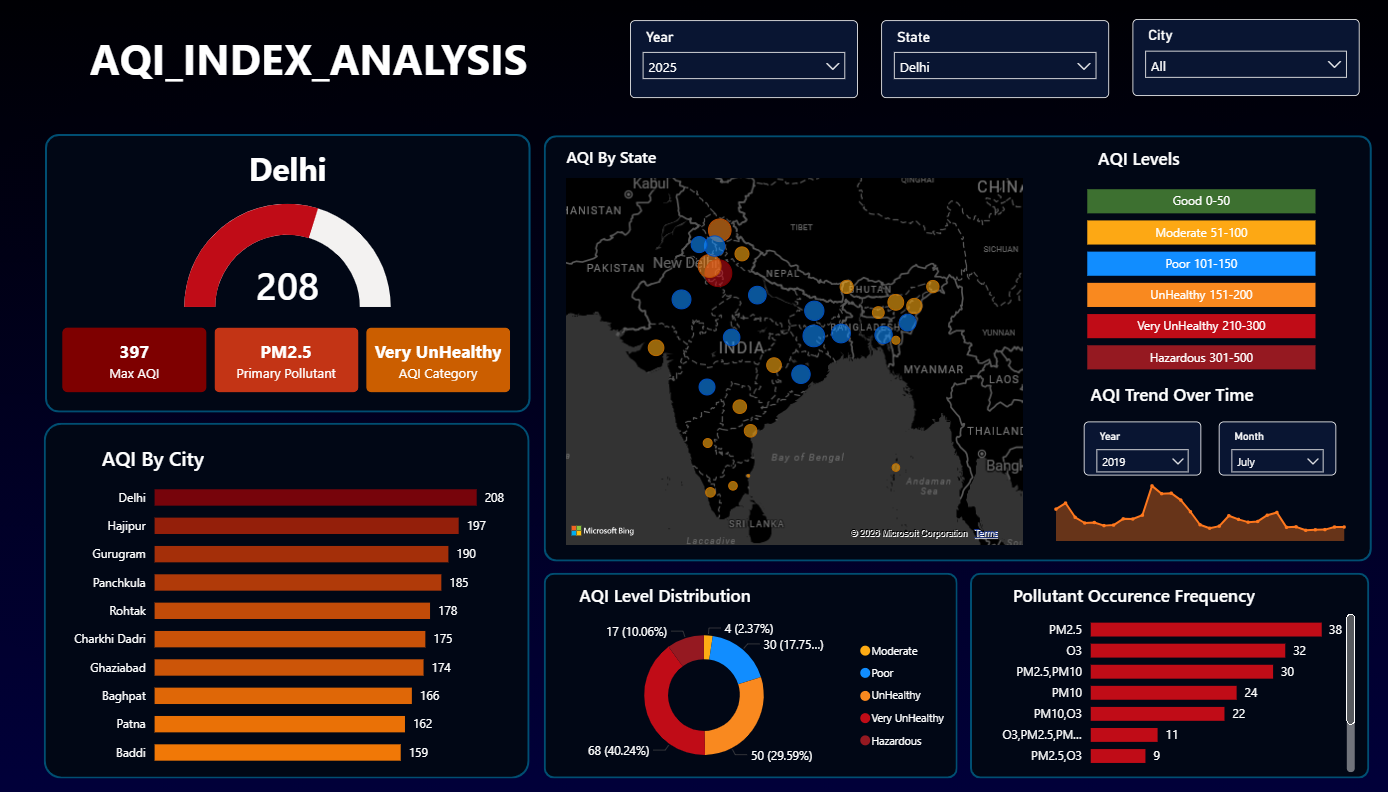

This screenshot's page, from the dashboard's own definition file:
{"tool":"powerbi","page":{"name":"AQI_INDEX_ANALYSIS","canvas":[1400,800],"ordinal":0},"visuals":[{"type":"shape","box":[45,136.6,489.3,280.7],"z":0},{"type":"textbox","box":[85.5,25.5,480.3,72],"z":1000},{"type":"gauge","fields":{"Y":["day_wise_aqi_data.Avg AQI"]},"box":[139.6,201.1,300.2,114.1],"z":2000},{"type":"slicer","fields":{"Values":["Calendar Table.Year"]},"box":[634.7,21.4,229.6,78],"z":3000},{"type":"slicer","fields":{"Values":["day_wise_aqi_data.state"]},"box":[888.4,21.4,229.6,78],"z":4000},{"type":"slicer","fields":{"Values":["day_wise_aqi_data.area"]},"box":[1141.1,20.5,229,77.7],"z":5000},{"type":"cardVisual","fields":{"Data":["Max(day_wise_aqi_data.aqi_value)","day_wise_aqi_data.Primary Pollutant","day_wise_aqi_data.AQI Category API"]},"box":[58.5,325.7,462.3,75],"z":6000},{"type":"cardVisual","fields":{"Data":["day_wise_aqi_data.KPI Title"]},"box":[45,148.6,489.3,42],"z":7000},{"type":"shape","box":[548.1,137.7,834.4,429.5],"z":8000},{"type":"map","fields":{"Category":["day_wise_aqi_data.state"],"Size":["day_wise_aqi_data.Avg AQI"]},"box":[565.8,174.5,470.4,380.4],"z":9000},{"type":"cardVisual","fields":{"Data":["day_wise_aqi_data.State Map Title"]},"box":[565.8,136.3,186.8,42.3],"z":10000},{"type":"barChart","fields":{"Category":["day_wise_aqi_data.AQI Category"],"Y":["day_wise_aqi_data.Label"]},"box":[1090.7,178.6,239.9,200.4],"z":11000},{"type":"cardVisual","fields":{"Data":["day_wise_aqi_data.AQI Level Title"]},"box":[1089.3,137.7,186.8,42.3],"z":12000},{"type":"areaChart","fields":{"Category":["Calendar Table.Date.Variation.Date Hierarchy.Day"],"Y":["day_wise_aqi_data.Avg AQI"]},"box":[1049.8,462.2,320.4,90],"z":13000},{"type":"slicer","fields":{"Values":["Calendar Table.Date.Variation.Date Hierarchy.Year"]},"box":[1092,425.4,118.6,54.5],"z":14000},{"type":"slicer","fields":{"Values":["Calendar Table.Date.Variation.Date Hierarchy.Month"]},"box":[1228.4,425.4,118.6,54.5],"z":15000},{"type":"cardVisual","fields":{"Data":["day_wise_aqi_data.Title for Monthly Chart"]},"box":[1082.5,374.9,230.4,42.3],"z":16000},{"type":"shape","box":[43.6,426.7,489.4,358.6],"z":17000},{"type":"barChart","fields":{"Category":["day_wise_aqi_data.area"],"Y":["day_wise_aqi_data.Avg AQI"]},"box":[62.7,470.4,452.6,314.9],"z":18000},{"type":"cardVisual","fields":{"Data":["day_wise_aqi_data.Title for City"]},"box":[85.5,439.8,187.6,43.5],"z":19000},{"type":"shape","box":[548.1,578.1,417.2,207.2],"z":20000},{"type":"donutChart","fields":{"Category":["day_wise_aqi_data.AQI Category"],"Y":["day_wise_aqi_data.COUNT ROWS"]},"box":[548.1,619,417.2,166.3],"z":21000},{"type":"cardVisual","fields":{"Data":["day_wise_aqi_data.Donut Title"]},"box":[567.1,578.1,263.1,42.3],"z":22000},{"type":"shape","box":[977.5,578.1,402.2,207.2],"z":23000},{"type":"barChart","fields":{"Category":["day_wise_aqi_data.prominent_pollutants"],"Y":["day_wise_aqi_data.COUNT ROWS"]},"box":[991.1,606.7,379,177.2],"z":24000},{"type":"cardVisual","fields":{"Data":["day_wise_aqi_data.Pollutant Title"]},"box":[1003.4,578.1,309.5,42.3],"z":25000}]}

Visuals, with their boxes in screenshot pixels (x1, y1, x2, y2), scaled from the page's 1400x800 canvas onto the 1388x792 screenshot:
shape: bbox=[45, 135, 530, 413]
textbox: bbox=[85, 25, 561, 97]
gauge - day_wise_aqi_data.Avg AQI: bbox=[138, 199, 436, 312]
slicer - Calendar Table.Year: bbox=[629, 21, 857, 98]
slicer - day_wise_aqi_data.state: bbox=[881, 21, 1108, 98]
slicer - day_wise_aqi_data.area: bbox=[1131, 20, 1358, 97]
cardVisual - Max(day_wise_aqi_data.aqi_value) x day_wise_aqi_data.Primary Pollutant: bbox=[58, 322, 516, 397]
cardVisual - day_wise_aqi_data.KPI Title: bbox=[45, 147, 530, 189]
shape: bbox=[543, 136, 1371, 562]
map - day_wise_aqi_data.state x day_wise_aqi_data.Avg AQI: bbox=[561, 173, 1027, 549]
cardVisual - day_wise_aqi_data.State Map Title: bbox=[561, 135, 746, 177]
barChart - day_wise_aqi_data.AQI Category x day_wise_aqi_data.Label: bbox=[1081, 177, 1319, 375]
cardVisual - day_wise_aqi_data.AQI Level Title: bbox=[1080, 136, 1265, 178]
areaChart - Calendar Table.Date.Variation.Date Hierarchy.Day x day_wise_aqi_data.Avg AQI: bbox=[1041, 458, 1358, 547]
slicer - Calendar Table.Date.Variation.Date Hierarchy.Year: bbox=[1083, 421, 1200, 475]
slicer - Calendar Table.Date.Variation.Date Hierarchy.Month: bbox=[1218, 421, 1335, 475]
cardVisual - day_wise_aqi_data.Title for Monthly Chart: bbox=[1073, 371, 1302, 413]
shape: bbox=[43, 422, 528, 777]
barChart - day_wise_aqi_data.area x day_wise_aqi_data.Avg AQI: bbox=[62, 466, 511, 777]
cardVisual - day_wise_aqi_data.Title for City: bbox=[85, 435, 271, 478]
shape: bbox=[543, 572, 957, 777]
donutChart - day_wise_aqi_data.AQI Category x day_wise_aqi_data.COUNT ROWS: bbox=[543, 613, 957, 777]
cardVisual - day_wise_aqi_data.Donut Title: bbox=[562, 572, 823, 614]
shape: bbox=[969, 572, 1368, 777]
barChart - day_wise_aqi_data.prominent_pollutants x day_wise_aqi_data.COUNT ROWS: bbox=[983, 601, 1358, 776]
cardVisual - day_wise_aqi_data.Pollutant Title: bbox=[995, 572, 1302, 614]
